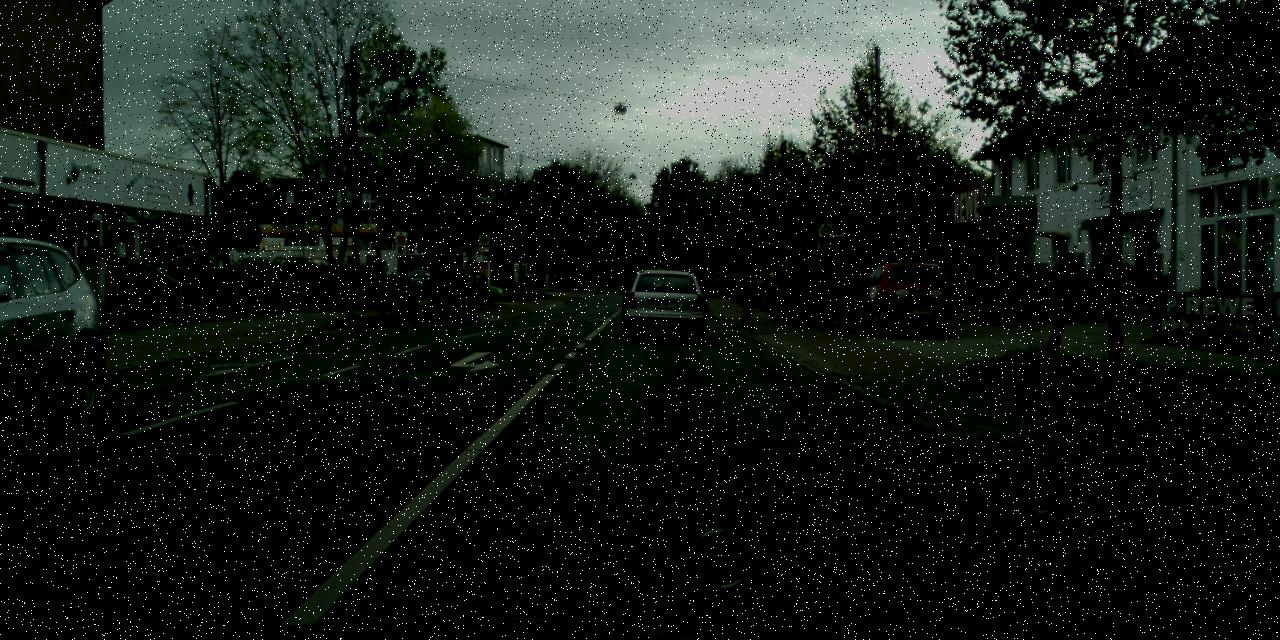ped: (764, 258, 809, 324), (735, 259, 761, 324), (950, 258, 970, 311), (455, 268, 469, 304), (400, 271, 412, 301), (490, 268, 500, 296), (594, 274, 600, 289)
